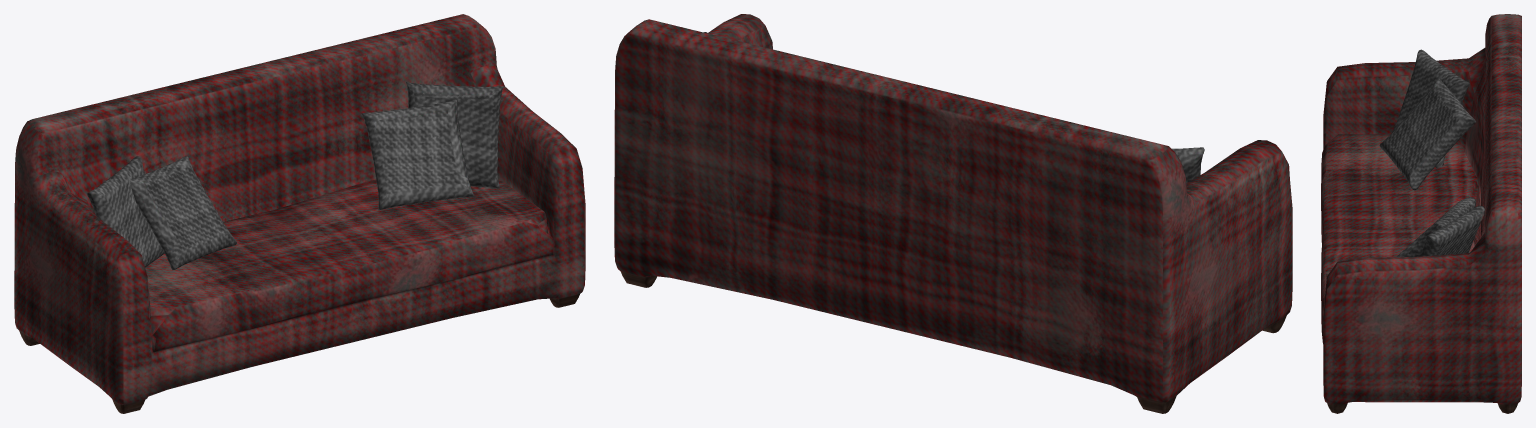
Rendered from couch.glb.
3 views of the same model, side by side, from view 1: azimuth 30°, elevation 25°; view 2: azimuth 150°, elevation 25°; view 3: azimuth 270°, elevation 25° (orthographic). The views are drawn at different scales.
Parts seen in each view (by area): view 1: Box001; view 2: Box001; view 3: Box001.
Part boxes in pixels (left/top/right/bottom): Box001: left=14, top=14, right=585, bottom=413; Box001: left=614, top=14, right=1292, bottom=413; Box001: left=1321, top=14, right=1521, bottom=413.
Size of the model in its own units: 2 by 0.9 by 0.8085.
1 material, 1 textured.
